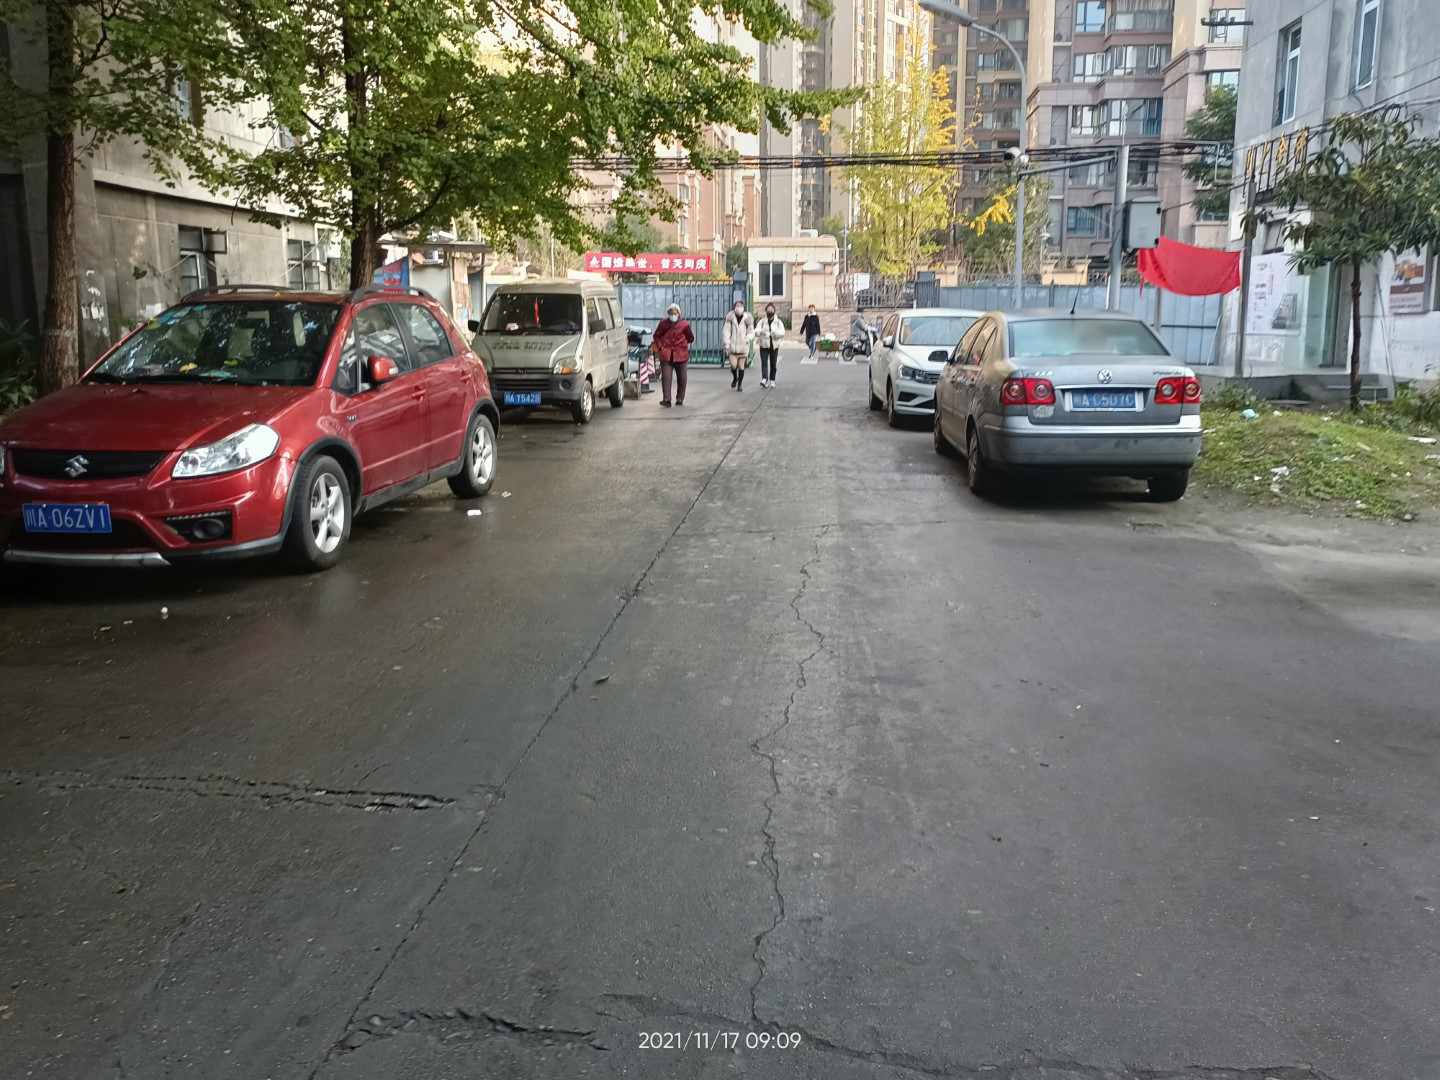plate: (20, 503, 111, 534), (1070, 389, 1136, 410), (503, 390, 541, 404)
